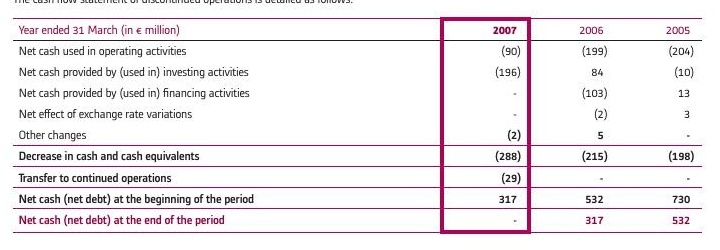table: (0, 0, 720, 250)
